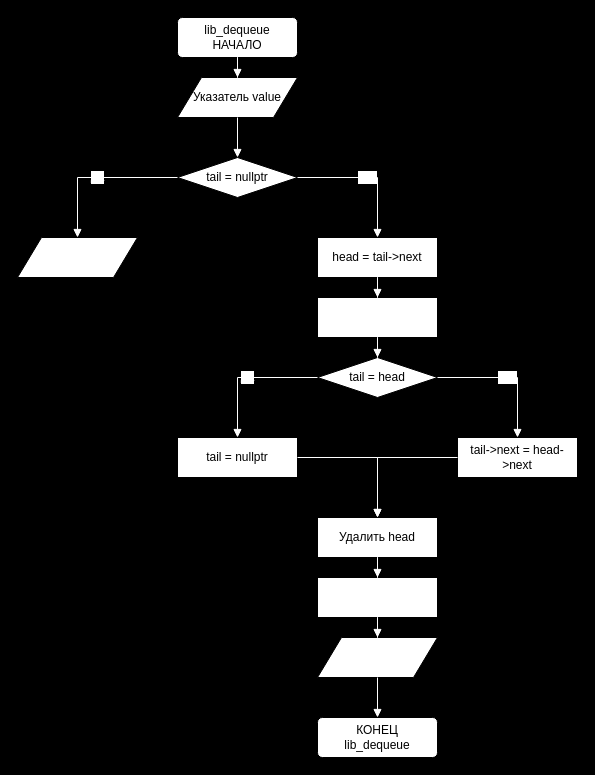
The diagram is 595 pixels wide and 775 high, and some of its shapes have lost their labels. The shapes that lost their labels are listed below. From the top down, each one's centre as x and y in pixels, then its label:
(x=77, y=257): ВОЗВРАТ 0
(x=377, y=317): *value = head->data
(x=377, y=597): size = size - 1
(x=377, y=657): ВОЗВРАТ 1
